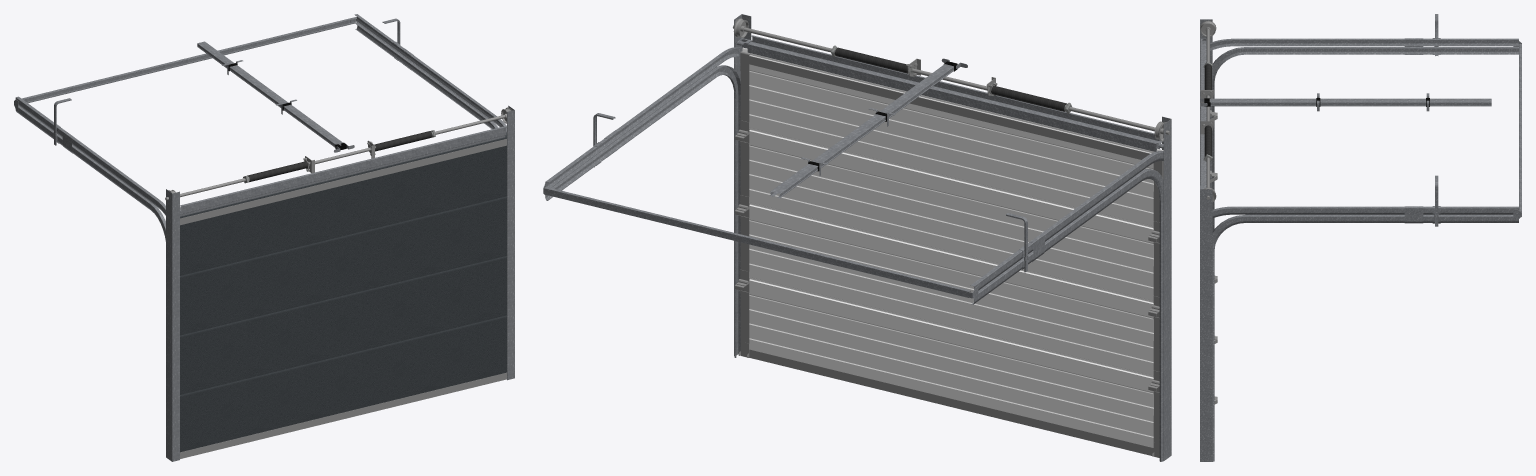
3 views of the same model, side by side, from view 1: azimuth 30°, elevation 25°; view 2: azimuth 150°, elevation 25°; view 3: azimuth 270°, elevation 25° (orthographic). The views are drawn at different scales.
Parts seen in each view (by area): view 1: Shape012, Shape010, Shape008, Shape014, Line002, Line070, Rectangle010, Rectangle006, Rectangle001, Line066, Rectangle004, Line034 (+3 smaller); view 2: Shape008, Shape010, Shape012, Shape014, Line002, Line005, Rectangle001, Rectangle010, Rectangle006, Line033, Line070, Rectangle004 (+5 smaller); view 3: Line066, Line005, Line033, Line034, Line006, Rectangle004, Line002, Rectangle001, Line019.
Boxes of the visible parts, bbox=[...] form: Shape012: bbox=[180, 196, 506, 335]; Shape010: bbox=[180, 256, 506, 394]; Shape008: bbox=[180, 315, 506, 452]; Shape014: bbox=[180, 132, 506, 275]; Line002: bbox=[180, 126, 506, 216]; Line070: bbox=[166, 189, 179, 461]; Rectangle010: bbox=[180, 372, 506, 458]; Rectangle006: bbox=[180, 139, 506, 225]; Rectangle001: bbox=[22, 17, 356, 103]; Line066: bbox=[507, 105, 514, 380]; Rectangle004: bbox=[197, 41, 342, 147]; Line034: bbox=[15, 96, 165, 215]; Shape008: bbox=[749, 277, 1153, 447]; Shape010: bbox=[749, 202, 1153, 375]; Shape012: bbox=[749, 128, 1153, 301]; Shape014: bbox=[742, 47, 1163, 226]; Line002: bbox=[747, 35, 1159, 151]; Line005: bbox=[545, 65, 740, 357]; Rectangle001: bbox=[544, 187, 970, 297]; Rectangle010: bbox=[749, 349, 1153, 455]; Rectangle006: bbox=[749, 56, 1150, 159]; Line033: bbox=[972, 168, 1163, 461]; Line070: bbox=[1162, 116, 1171, 460]; Rectangle004: bbox=[770, 64, 953, 198]; Line066: bbox=[1200, 186, 1212, 461]; Line005: bbox=[1212, 214, 1518, 461]; Line033: bbox=[1210, 47, 1518, 231]; Line034: bbox=[1210, 38, 1518, 50]; Line006: bbox=[1212, 206, 1518, 217]; Rectangle004: bbox=[1209, 98, 1491, 106]; Line002: bbox=[1200, 38, 1206, 189]; Rectangle001: bbox=[1519, 44, 1521, 212]; Line019: bbox=[1404, 206, 1423, 223].
Bounding box in the file's own units: 3027 × 2293 × 2393.
Materials: 10 (5 with a texture image).
